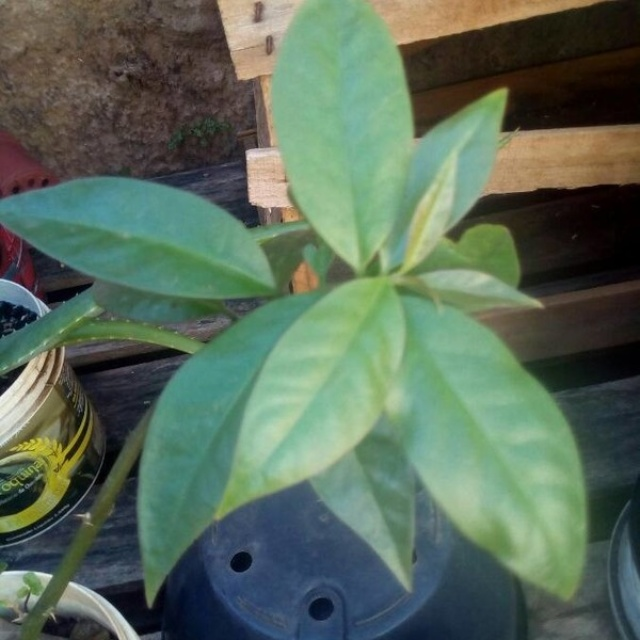obstacle: (20, 18, 578, 594)
